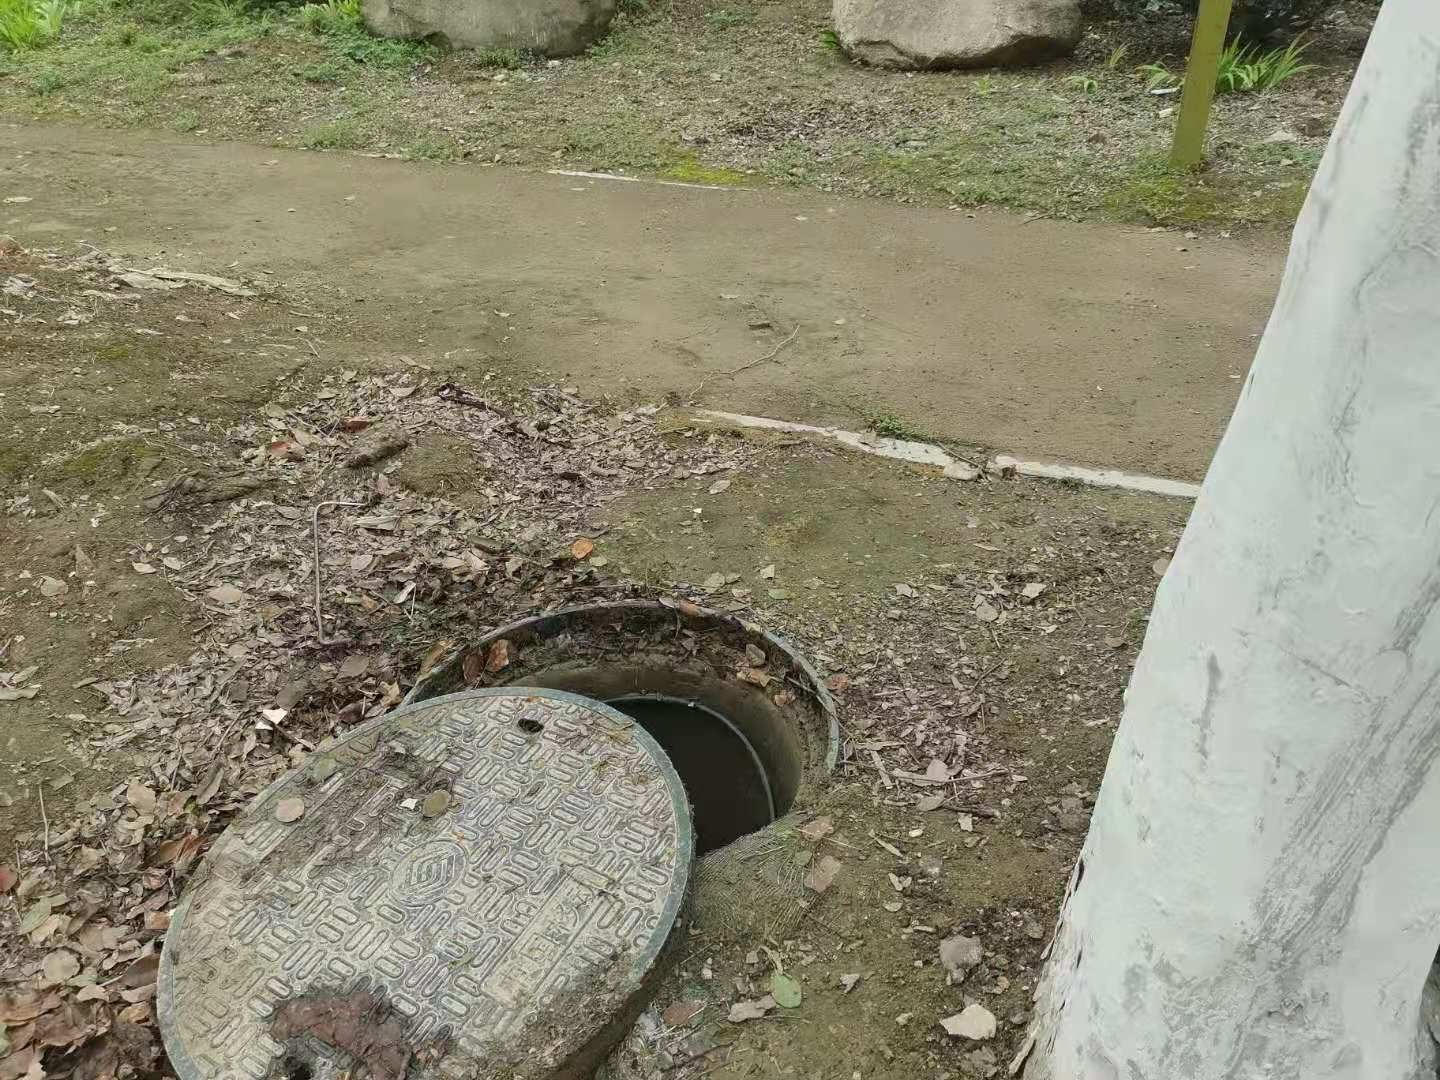uncovered: (153, 598, 842, 1080)
